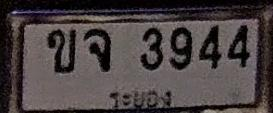3: (140, 27, 163, 70)
4: (199, 24, 221, 68), (228, 24, 250, 67)
9: (170, 26, 192, 70)
A02: (47, 28, 76, 72)
A08: (84, 28, 110, 71)
RYG: (104, 86, 176, 111)
